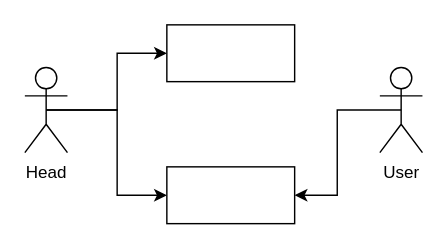
Image size: 447x249. Some labels were removed from this diagram. Here are the shapes that lost their labels. From the top down, the centre of each, then its label:
point (230, 52): Adding information
point (230, 194): Viewing information
